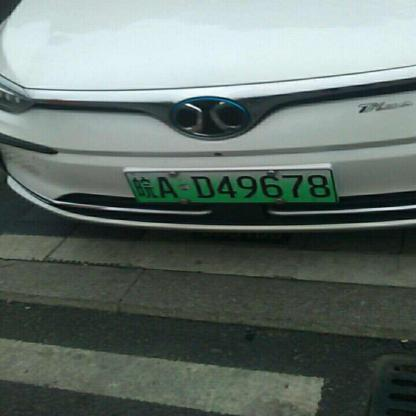lp: (124, 170, 339, 204)
